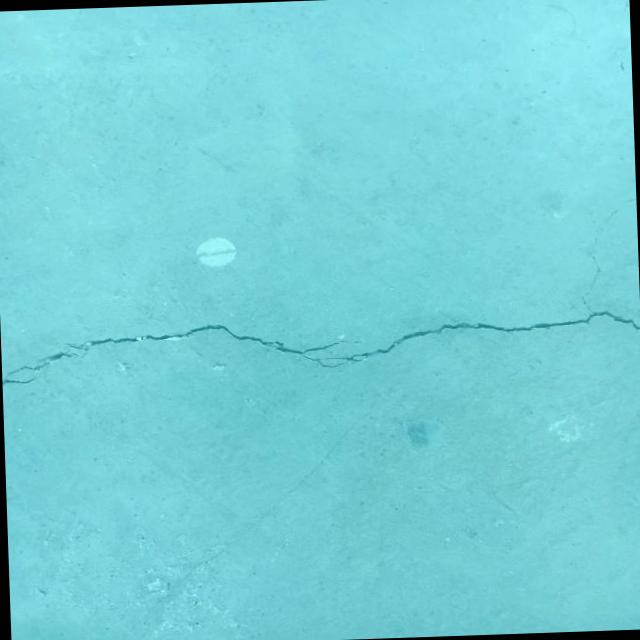crack: (63, 254, 640, 376), (1, 348, 87, 386)
